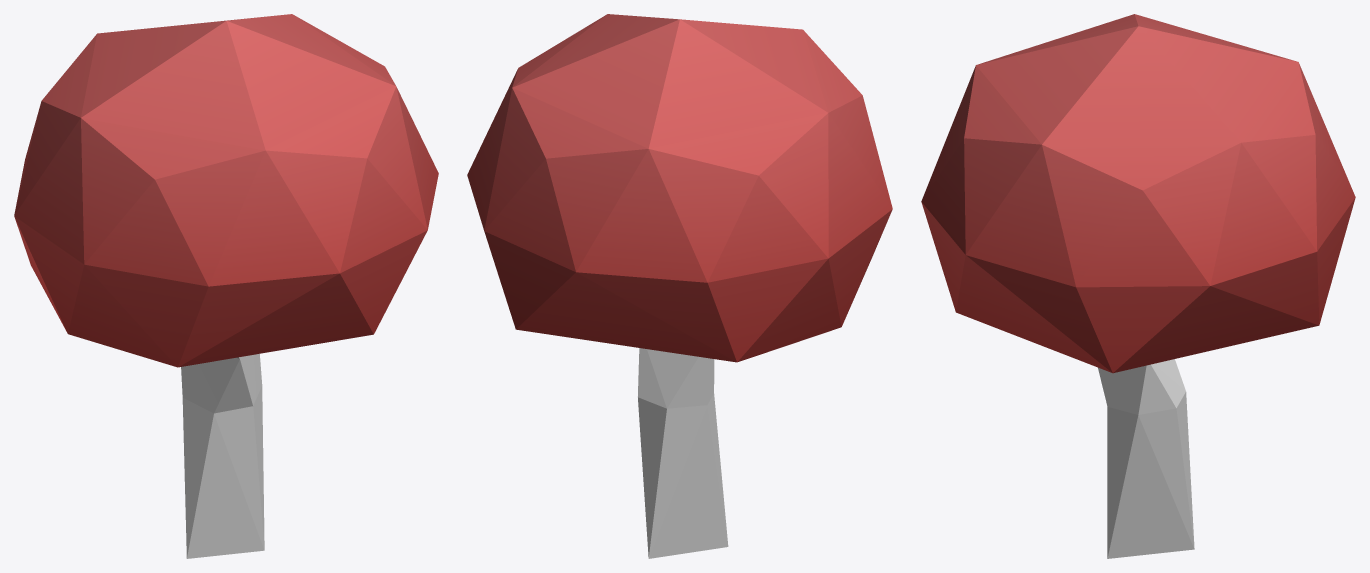
Rendered from Mushroom_03.fbx.
3 views of the same model, side by side, from view 1: azimuth 30°, elevation 25°; view 2: azimuth 150°, elevation 25°; view 3: azimuth 270°, elevation 25° (orthographic).
Visible parts, largest first — view 1: Mushroom_03; view 2: Mushroom_03; view 3: Mushroom_03.
Part boxes in pixels (box(x1,y1,x2,y2)): Mushroom_03: box(14, 14, 438, 558); Mushroom_03: box(467, 14, 892, 558); Mushroom_03: box(921, 14, 1355, 558).
Size of the model in its own units: 0.309 by 0.4275 by 0.3225.
